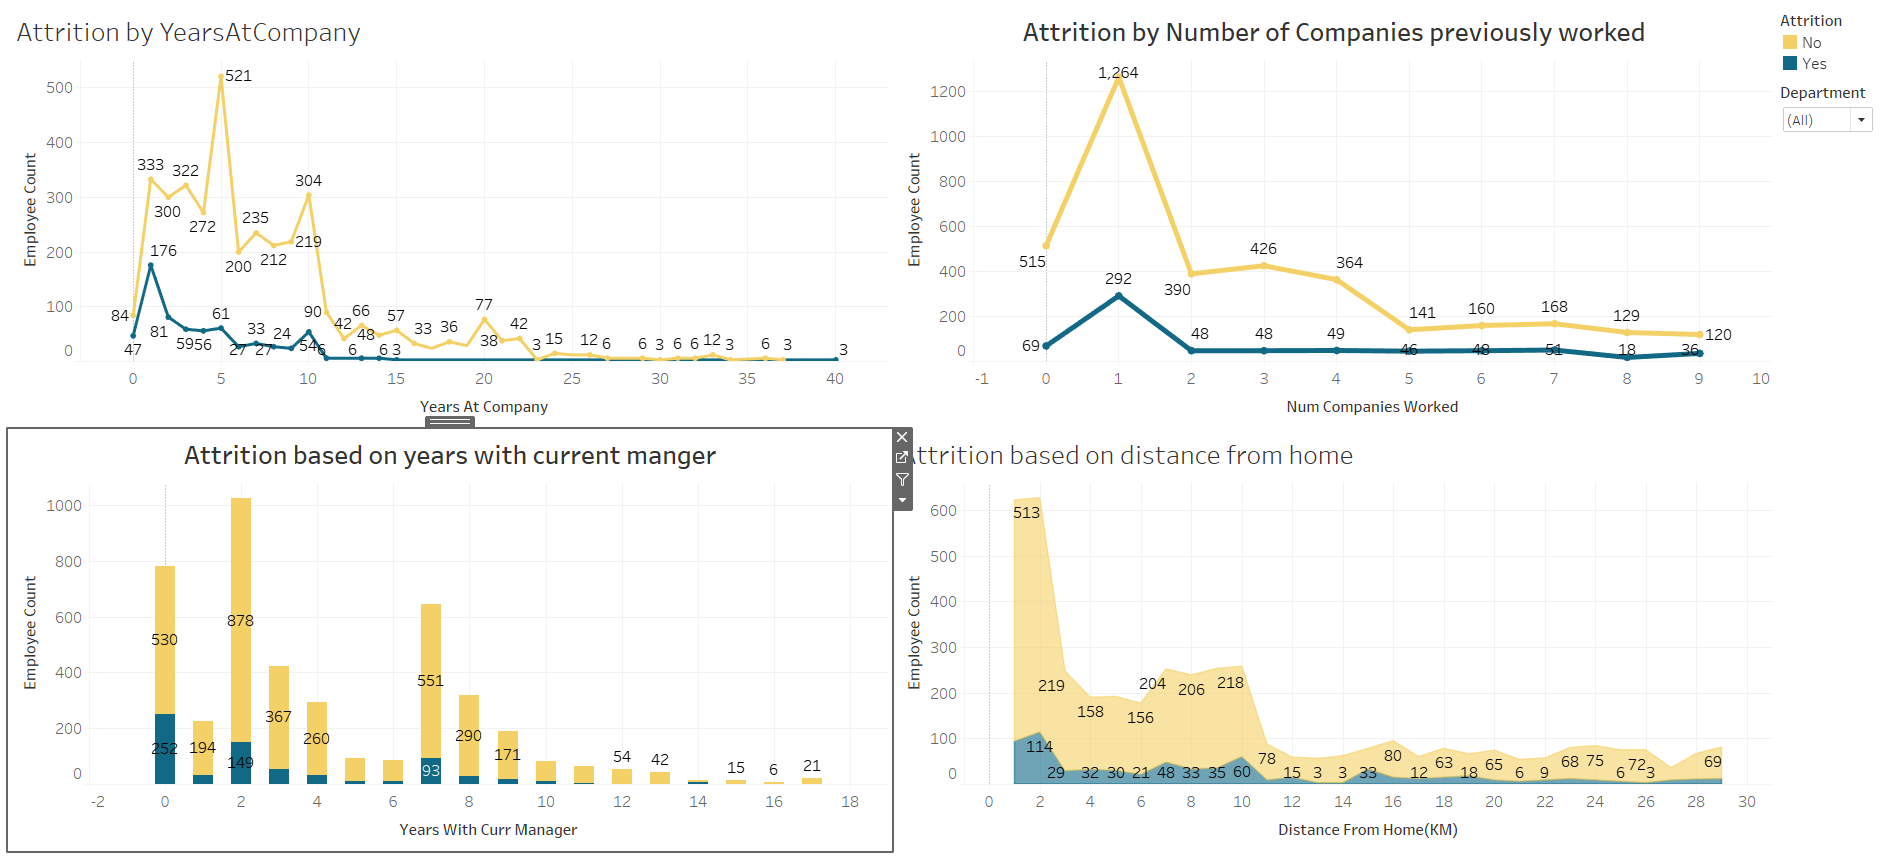

This screenshot's page, from the dashboard's own definition file:
{"tool":"tableau","page":{"name":"Dashboard 3","canvas":[1000,1000],"units":"permille","ordinal":2},"visuals":[{"type":"worksheet","title":"Sheet 4","mark":"Automatic","rows":["EmployeeCount"],"cols":["YearsAtCompany"],"box":[4.8,9.3,463.7,490.7]},{"type":"worksheet","title":"Sheet 13","mark":"Line","rows":["EmployeeCount"],"cols":["NumCompaniesWorked"],"box":[468.6,9.3,463.9,490.7]},{"type":"legend","title":"Sheet 4","param":"[federated.0j0eqzi1m7ro331365rb91to361o].[none:Attrition:nk]","box":[932.4,9.3,62.8,83.6]},{"type":"filter","title":"Sheet 14","param":"[federated.0j0eqzi1m7ro331365rb91to361o].[none:Department:nk]","box":[932.4,92.9,62.8,70.9]},{"type":"worksheet","title":"Sheet 14","mark":"Bar","rows":["EmployeeCount"],"cols":["YearsWithCurrManager"],"box":[4.8,500,463.7,490.7]},{"type":"worksheet","title":"Sheet 12","mark":"Area","rows":["EmployeeCount"],"cols":["DistanceFromHome"],"box":[468.6,500,463.9,490.7]}]}

Visuals, with their boxes on the dashboard's canvas, which has no fixed pixel size, in thousandths of its width and height (x1, y1, x2, y2). These are canvas units, not pixel positions in the 1886x857 screenshot, which may show the page scaled, cropped or inside an application window:
"Sheet 4" worksheet: bbox=(5, 9, 468, 500)
"Sheet 13" worksheet (Line marks): bbox=(469, 9, 932, 500)
"Sheet 4" legend: bbox=(932, 9, 995, 93)
"Sheet 14" filter: bbox=(932, 93, 995, 164)
"Sheet 14" worksheet (Bar marks): bbox=(5, 500, 468, 991)
"Sheet 12" worksheet (Area marks): bbox=(469, 500, 932, 991)
